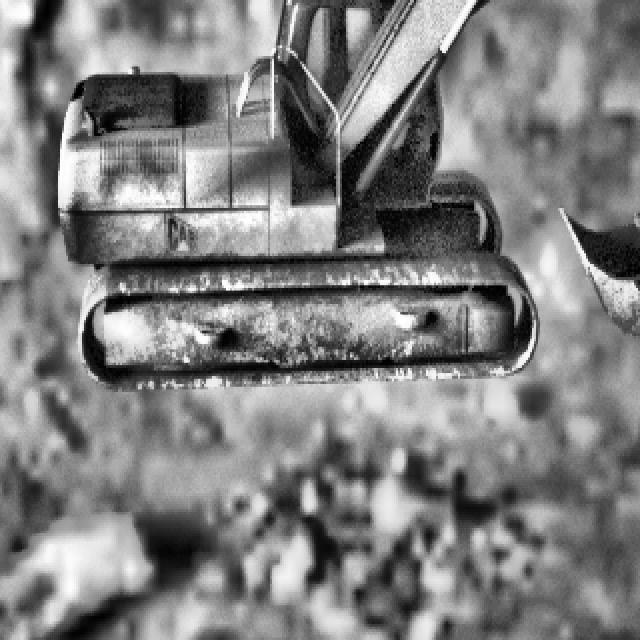excavator: (56, 0, 640, 387)
